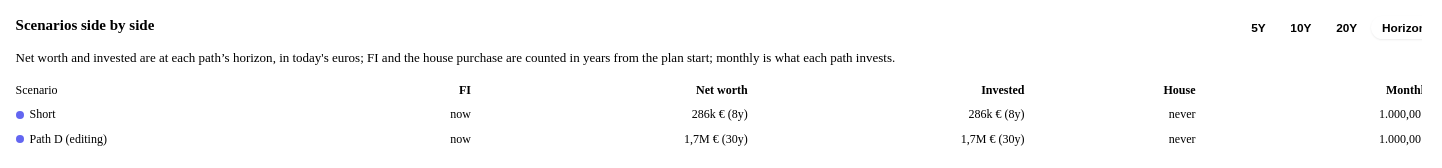
Test: ScenarioComparison › marks a path whose horizon is shorter than the chosen year
What coordinates should you click on to do the following:
click the radio button labelled "20Y"
I would click on:
 (1347, 28)
Its box is left=1325, top=16, right=1368, bottom=39.
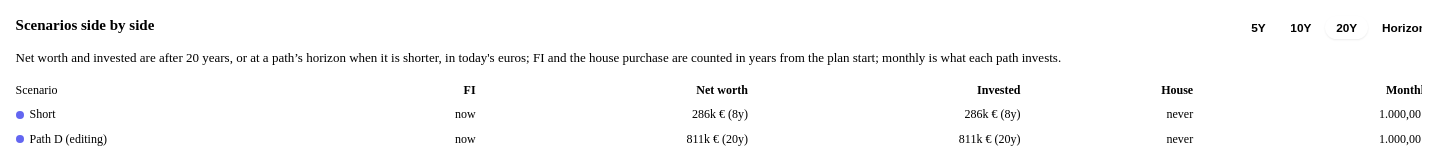
Expected: the text "286k € (8y)" is shown 2 times, left=485, top=102, right=758, bottom=127; left=758, top=102, right=1030, bottom=127
Expected: the text "after 20 years, or at a path’s horizon when it is shorter" is shown, left=156, top=50, right=439, bottom=65
